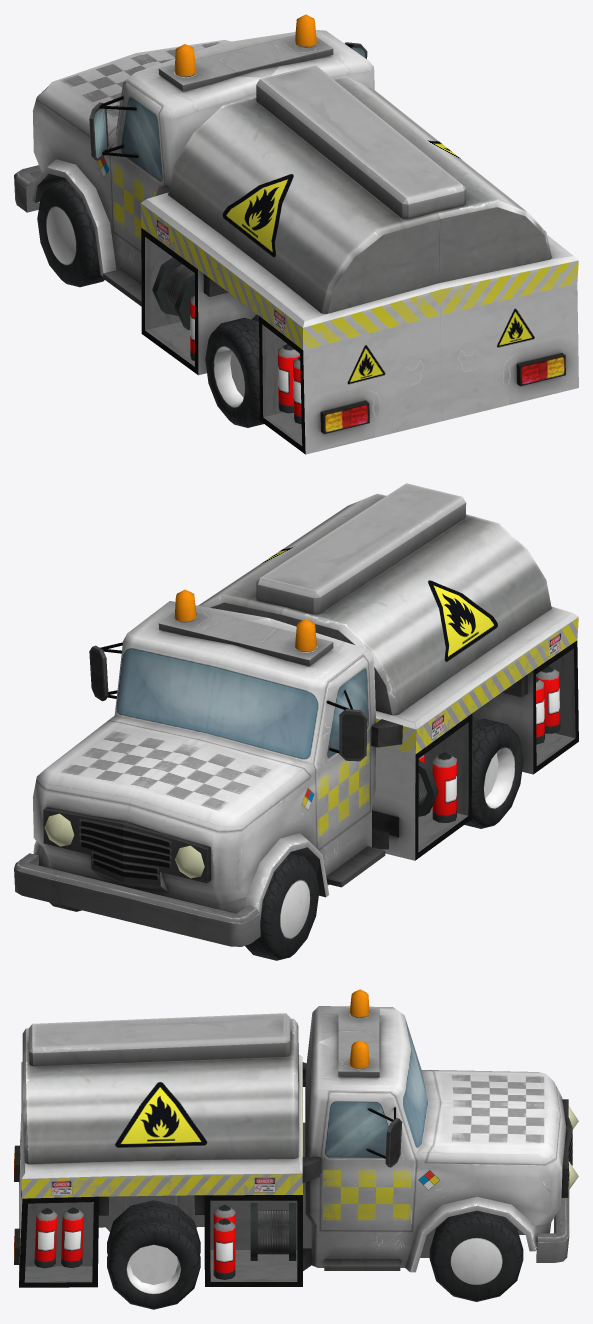
The model's file is Truck_Gas.fbx.
The picture shows the model from 3 angles, top to bottom: view 1: azimuth 30°, elevation 25°; view 2: azimuth 150°, elevation 25°; view 3: azimuth 270°, elevation 25°; orthographic projection. The views are drawn at different scales.
Parts seen in each view (by area): view 1: Truck, Wheel_Back, Wheel_Front_L; view 2: Truck, Wheel_Front_L, Wheel_Back; view 3: Truck, Wheel_Back, Wheel_Front_R.
Boxes of the visible parts, bbox=[...] form: Truck: bbox=[14, 14, 578, 454]; Wheel_Back: bbox=[205, 314, 263, 427]; Wheel_Front_L: bbox=[37, 179, 104, 287]; Truck: bbox=[14, 483, 578, 946]; Wheel_Front_L: bbox=[245, 853, 319, 960]; Wheel_Back: bbox=[464, 716, 523, 828]; Truck: bbox=[14, 989, 578, 1287]; Wheel_Back: bbox=[107, 1200, 200, 1309]; Wheel_Front_R: bbox=[429, 1210, 523, 1301].
Size of the model in its own units: 18.29 by 17.41 by 37.16.
